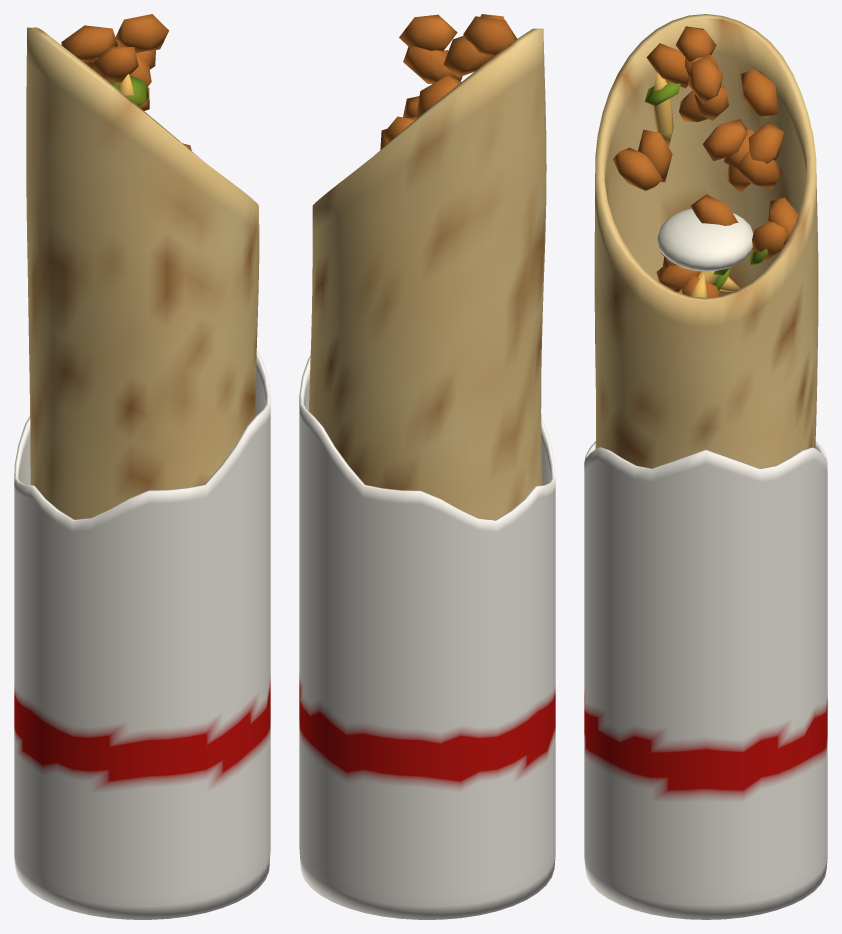
File: wrap.glb
The picture shows the model from 3 angles, left to right: view 1: azimuth 30°, elevation 25°; view 2: azimuth 150°, elevation 25°; view 3: azimuth 270°, elevation 25°; orthographic projection. The views are drawn at different scales.
Visible parts, largest first — view 1: wrap; view 2: wrap; view 3: wrap.
Part boxes in pixels (x1,y1,x2,y2): wrap: [14, 14, 270, 919]; wrap: [299, 14, 555, 919]; wrap: [584, 14, 827, 919].
Bounding box in the file's own units: 0.0476 × 0.1752 × 0.0476.
